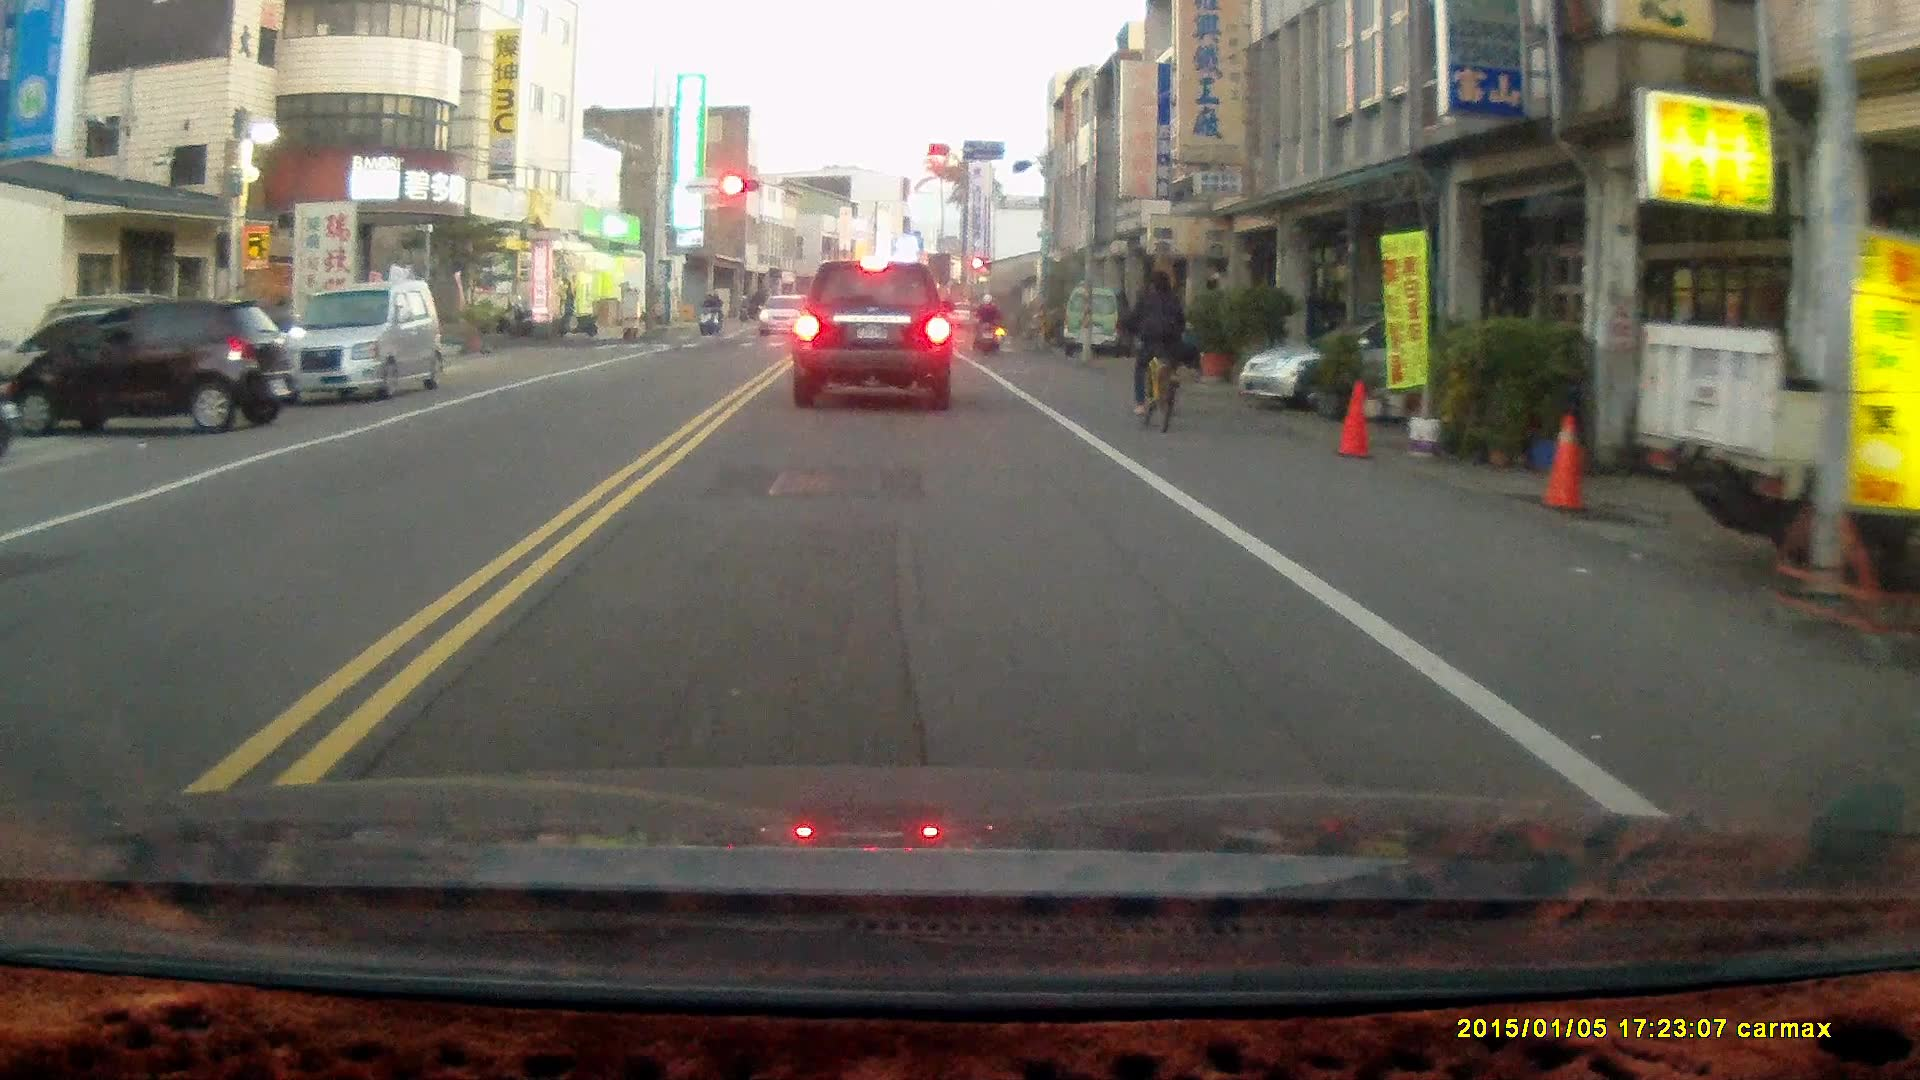rider: (1124, 267, 1188, 433), (969, 290, 1002, 356), (694, 289, 718, 337)
vehicle: (9, 296, 296, 439), (1234, 312, 1524, 417), (791, 262, 954, 413), (272, 282, 447, 405), (1062, 291, 1129, 363)
